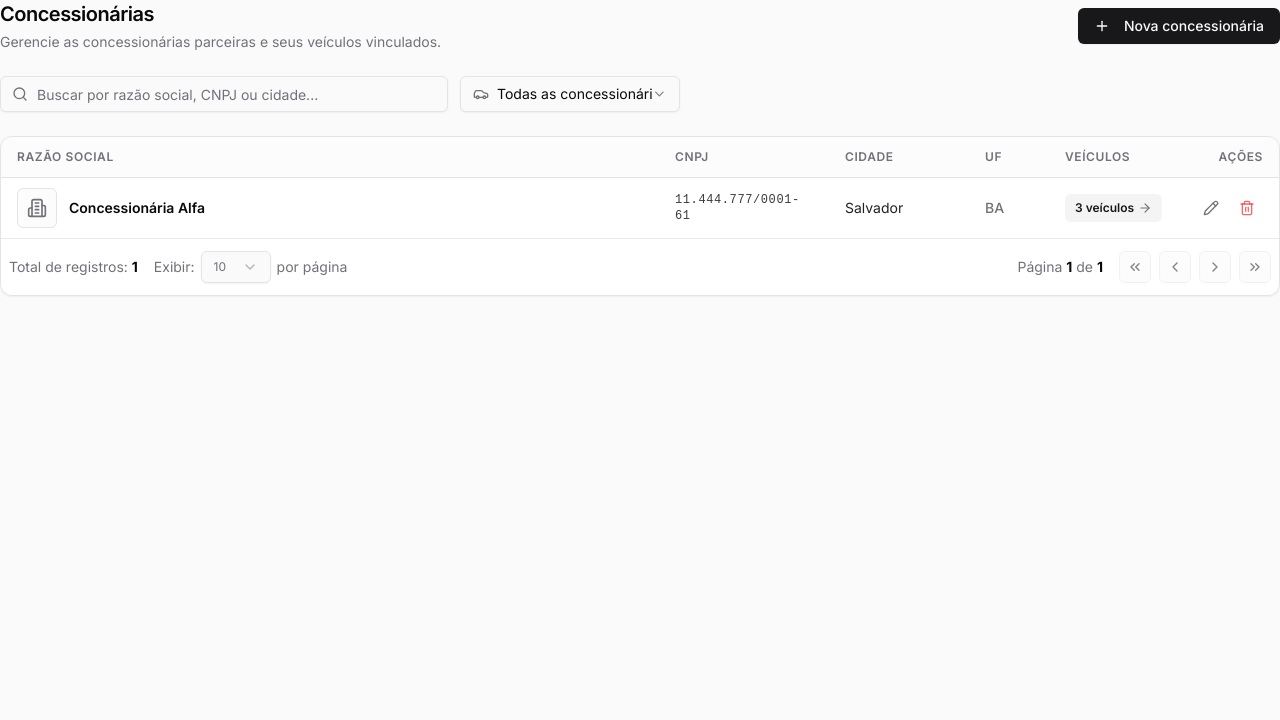
DealersPage › should open creation form dialog when Nova concessionária button is clicked
Click the button "Nova concessionária": (1179, 26) [1078,8,1279,44]
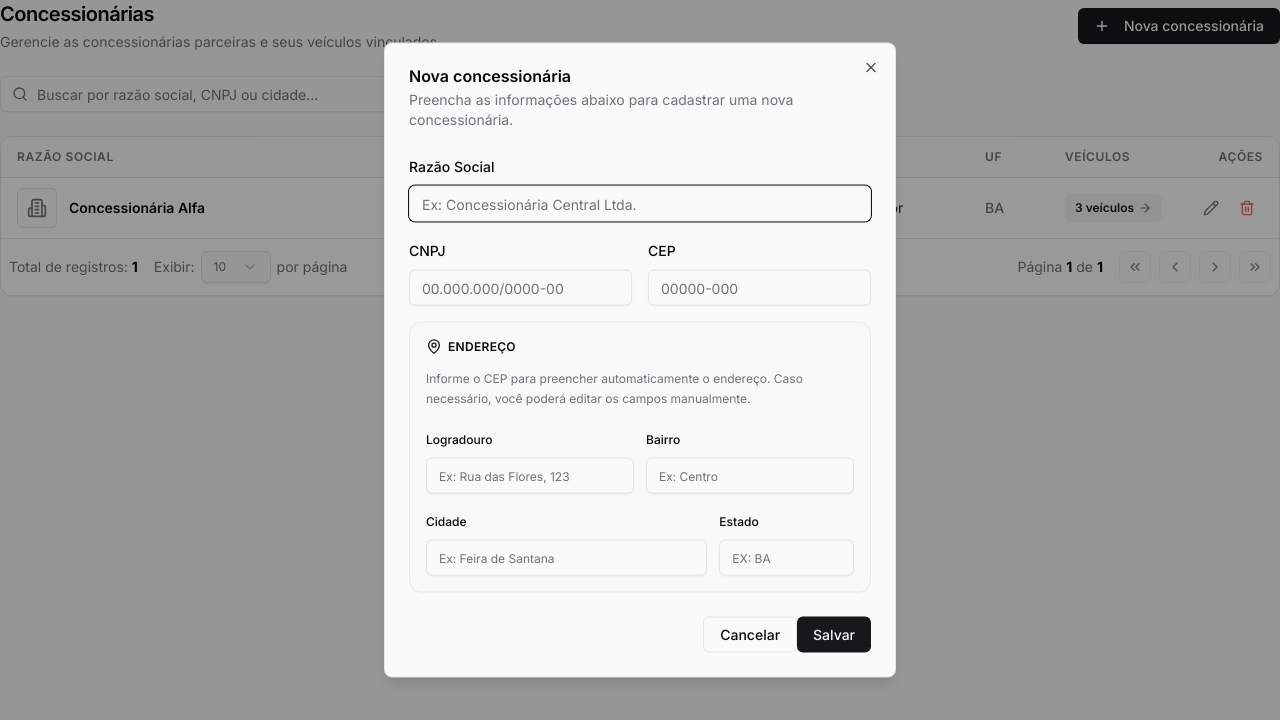
expect the dialog is shown: met, box [384,42,896,678]
